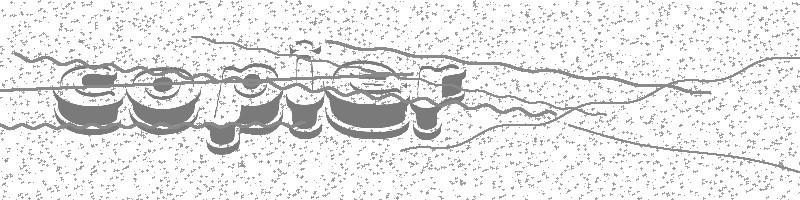c: (56, 61, 124, 140)
e: (321, 49, 412, 150)
i: (283, 27, 329, 149)
o: (121, 62, 206, 138)
p: (205, 51, 287, 162)
r: (411, 57, 477, 147)
